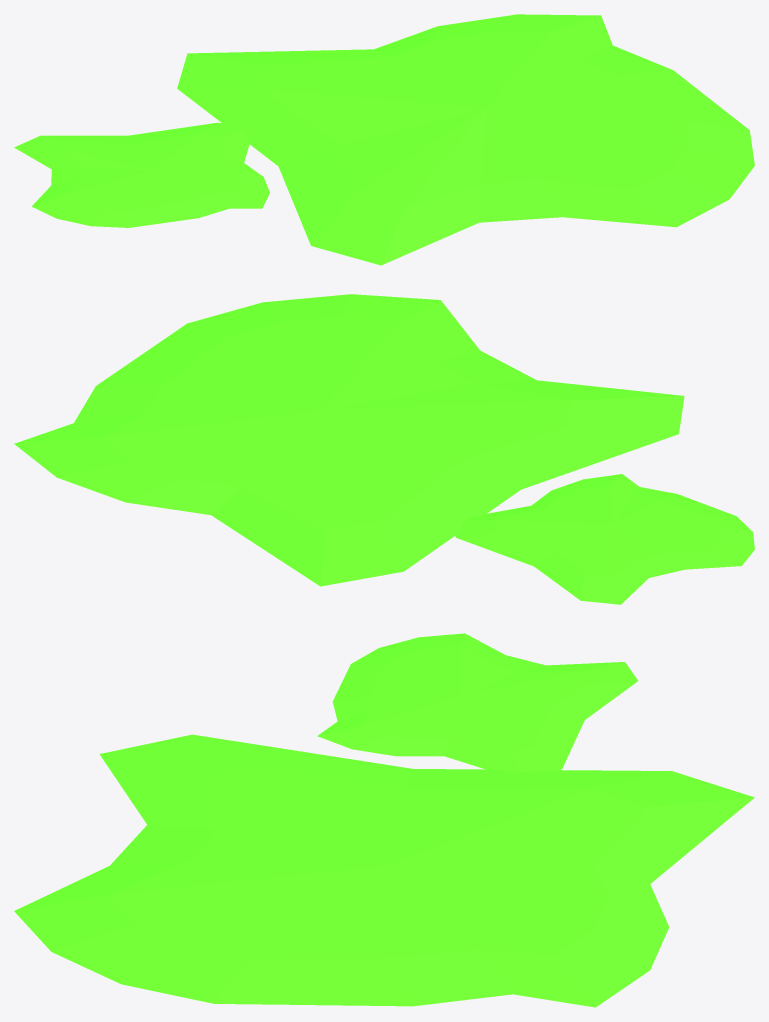
File: Goo.fbx
The picture shows the model from 3 angles, top to bottom: view 1: azimuth 30°, elevation 25°; view 2: azimuth 150°, elevation 25°; view 3: azimuth 270°, elevation 25°; orthographic projection. The views are drawn at different scales.
Parts seen in each view (by area): view 1: Sphere.001, Sphere; view 2: Sphere.001, Sphere; view 3: Sphere.001, Sphere.
Part boxes in pixels (x1,y1,x2,y2): Sphere.001: (177,14,754,265); Sphere: (14,122,269,227); Sphere.001: (14,294,684,586); Sphere: (455,474,754,604); Sphere.001: (14,734,754,1007); Sphere: (317,633,637,772).
Size of the model in its own units: 314 by 9.13 by 263.
